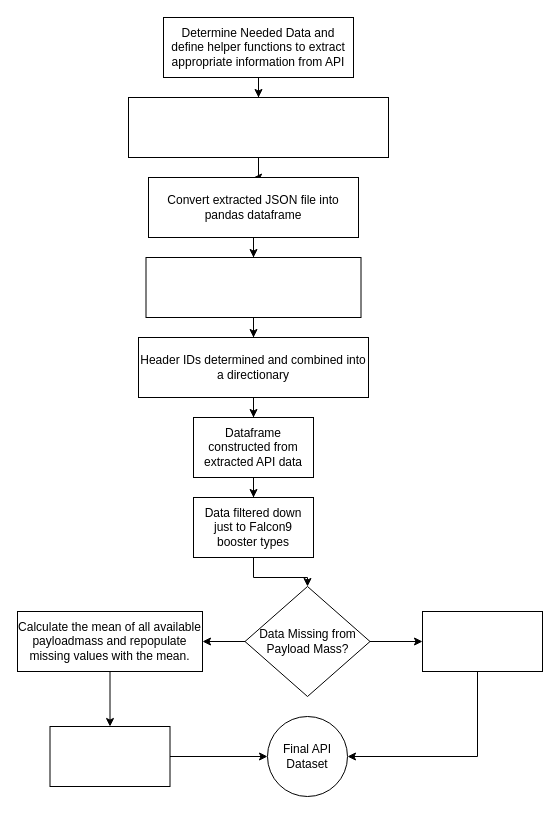
This 560x814 diagram has some shape labels left out. The shapes that lost their labels are listed below. From the top down, each one's centre as x and y in pixels, then its label:
(258,127): Define API Url "https://api.spacexdata.com/v4/launches/past"
(253,287): Recall API with launch IDs to extract detailed information about each launch
(482,641): No data adjustment requried
(109,756): New values added back to the original dataframe
